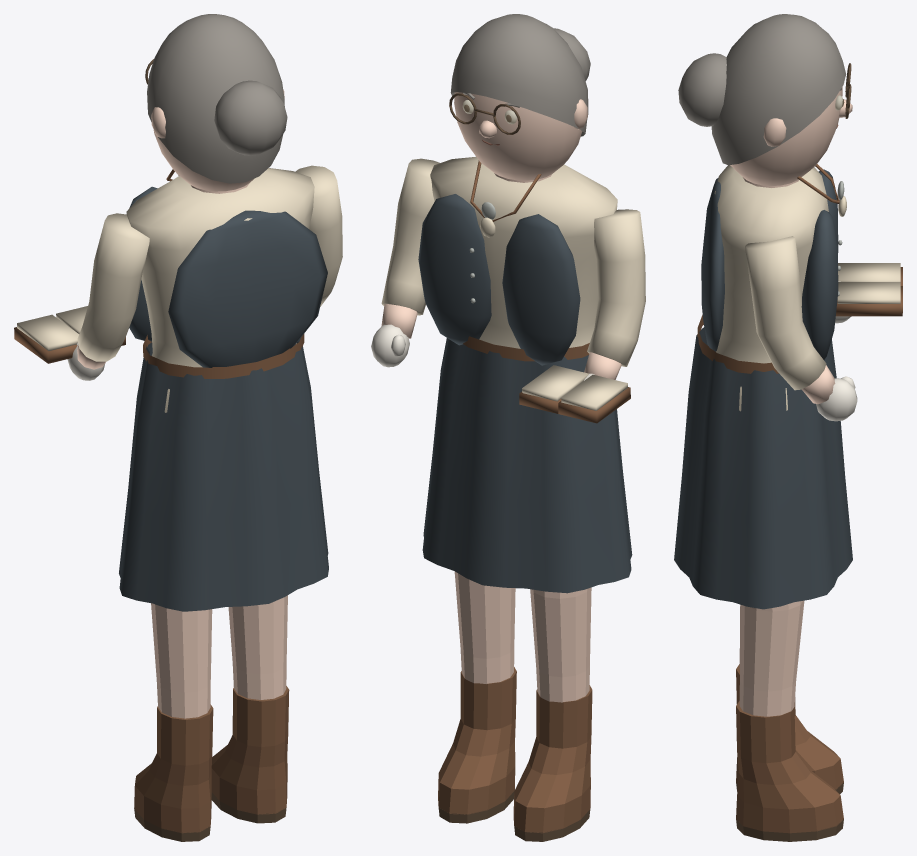
The model's file is SM_NPC_SAGE.glb.
The picture shows the model from 3 angles, left to right: view 1: azimuth 30°, elevation 25°; view 2: azimuth 150°, elevation 25°; view 3: azimuth 270°, elevation 25°; orthographic projection.
Parts seen in each view (by area): view 1: SM_NPC_SAGE_BODY, SM_NPC_SAGE_HAIR, SM_NPC_SAGE_LEG_L, SM_NPC_SAGE_LEG_R, SM_NPC_SAGE_ARM_L, SM_NPC_SAGE_ARM_R, SM_NPC_SAGE_HEAD; view 2: SM_NPC_SAGE_BODY, SM_NPC_SAGE_LEG_L, SM_NPC_SAGE_LEG_R, SM_NPC_SAGE_ARM_L, SM_NPC_SAGE_HAIR, SM_NPC_SAGE_HEAD, SM_NPC_SAGE_ARM_R; view 3: SM_NPC_SAGE_BODY, SM_NPC_SAGE_LEG_R, SM_NPC_SAGE_HAIR, SM_NPC_SAGE_ARM_R, SM_NPC_SAGE_HEAD, SM_NPC_SAGE_ARM_L, SM_NPC_SAGE_LEG_L.
Part boxes in pixels (box(x1,y1,x2,y2)): SM_NPC_SAGE_BODY: box(119, 168, 328, 611); SM_NPC_SAGE_HAIR: box(147, 14, 287, 183); SM_NPC_SAGE_LEG_L: box(134, 603, 213, 841); SM_NPC_SAGE_LEG_R: box(211, 595, 289, 823); SM_NPC_SAGE_ARM_L: box(14, 213, 149, 380); SM_NPC_SAGE_ARM_R: box(295, 165, 342, 306); SM_NPC_SAGE_HEAD: box(145, 59, 284, 191); SM_NPC_SAGE_BODY: box(418, 156, 632, 593); SM_NPC_SAGE_LEG_L: box(513, 587, 592, 841); SM_NPC_SAGE_LEG_R: box(438, 571, 516, 823); SM_NPC_SAGE_ARM_L: box(519, 209, 645, 423); SM_NPC_SAGE_HAIR: box(450, 14, 590, 136); SM_NPC_SAGE_HEAD: box(449, 92, 587, 180); SM_NPC_SAGE_ARM_R: box(371, 158, 439, 367); SM_NPC_SAGE_BODY: box(674, 164, 852, 609); SM_NPC_SAGE_LEG_R: box(736, 600, 843, 841); SM_NPC_SAGE_HAIR: box(678, 14, 846, 165); SM_NPC_SAGE_ARM_R: box(745, 236, 857, 421); SM_NPC_SAGE_HEAD: box(730, 63, 852, 185); SM_NPC_SAGE_ARM_L: box(835, 263, 902, 323); SM_NPC_SAGE_LEG_L: box(736, 606, 843, 793).
Size of the model in its own units: 0.5939 by 1.71 by 0.4489.
